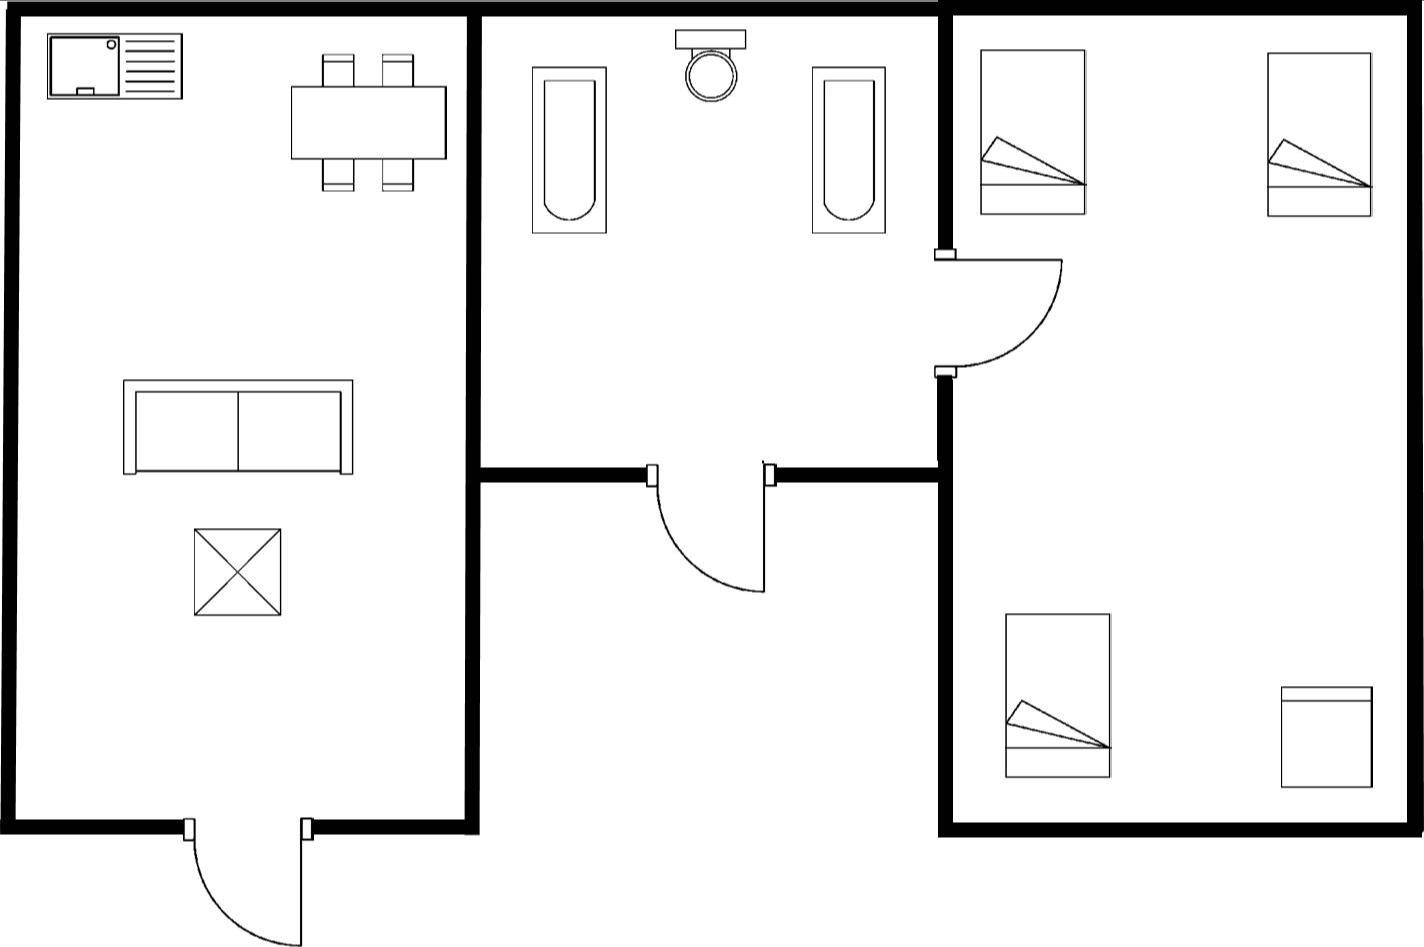bed: (976, 42, 1094, 222), (1262, 45, 1380, 223), (1001, 608, 1114, 782)
dining_table: (286, 49, 453, 197)
sink: (42, 25, 190, 105)
sofa: (117, 373, 361, 479)
toilet: (669, 23, 753, 105)
tub: (528, 61, 616, 236), (809, 60, 892, 239)
